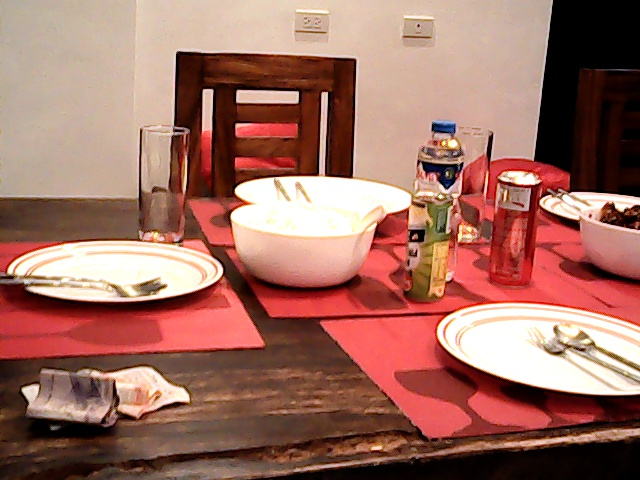Cola: (488, 168, 540, 290)
Pine Juice: (406, 194, 447, 298)
Summit Water: (414, 116, 470, 196)
